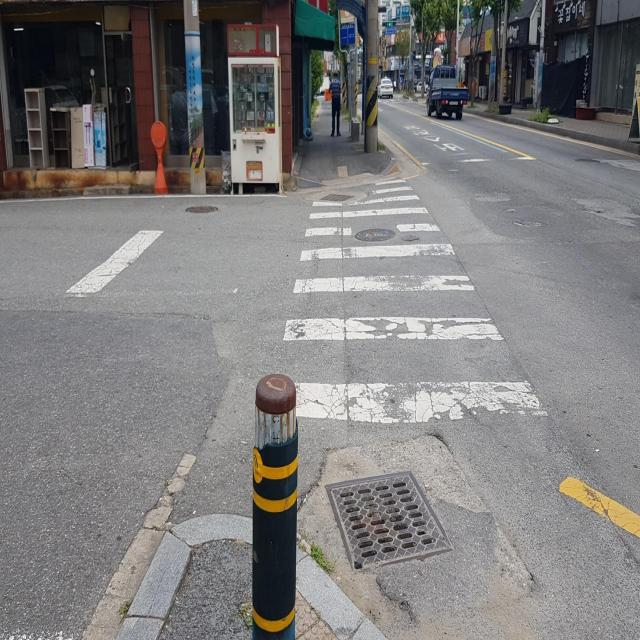횡단보도: (282, 178, 549, 425)
